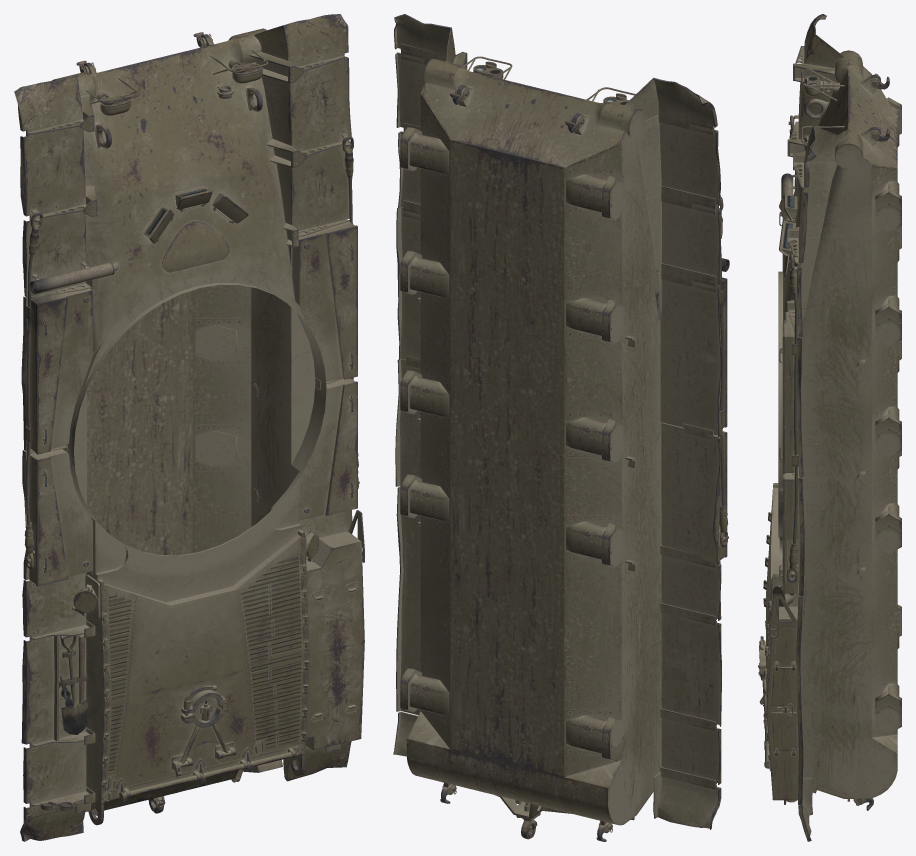
File: Hull.glb
3 views of the same model, side by side, from view 1: azimuth 30°, elevation 25°; view 2: azimuth 150°, elevation 25°; view 3: azimuth 270°, elevation 25° (orthographic). The views are drawn at different scales.
Visible parts, largest first — view 1: set_0_group_0; view 2: set_0_group_0; view 3: set_0_group_0.
Boxes of the visible parts, x1,y1,x2,y2 form: set_0_group_0: (14, 14, 364, 841); set_0_group_0: (393, 14, 729, 841); set_0_group_0: (758, 14, 901, 841).
Size of the model in its own units: 3.22 by 7.2 by 1.32.
Materials: 1 (1 with a texture image).
